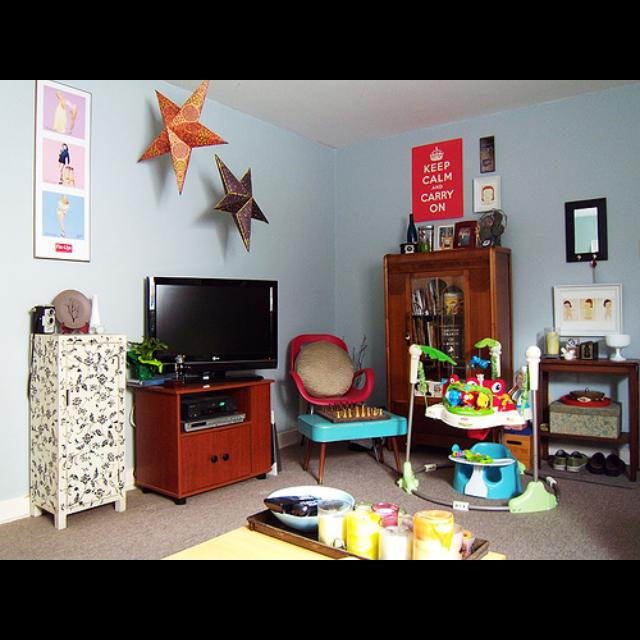Flat-Panel-TV: (147, 275, 283, 374)
Refrigerator: (30, 334, 135, 530)
TV-Remote-Control: (291, 499, 320, 516)
